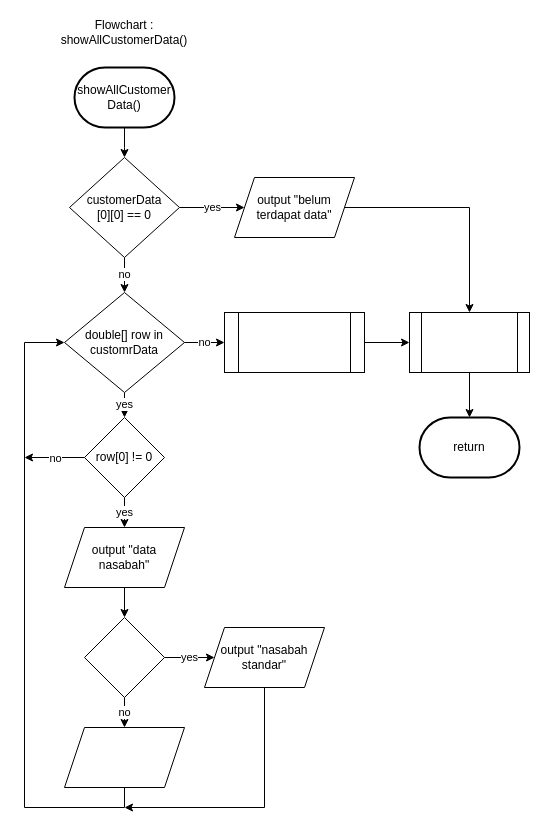
This 547x833 diagram has some shape labels left out. The centre of each missing label's shape, as x and y in pixels:
addHistory(-1,msg): (x=294, y=342)
dataMenu(): (x=469, y=342)
output "nasabah prioritas": (x=124, y=757)
row[1] == 1: (x=124, y=657)
